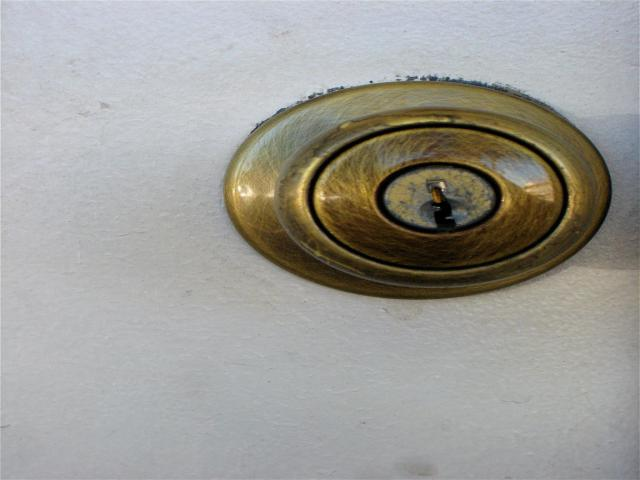Door-handle: (220, 73, 616, 301)
